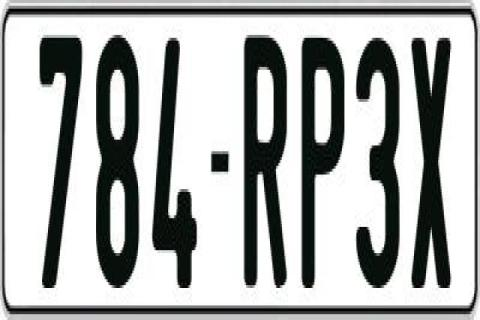0: (96, 29, 146, 282), (356, 29, 404, 291), (150, 32, 196, 282), (36, 29, 78, 291)
P: (302, 29, 348, 297)
R: (245, 29, 287, 291)
X: (412, 32, 456, 288)
